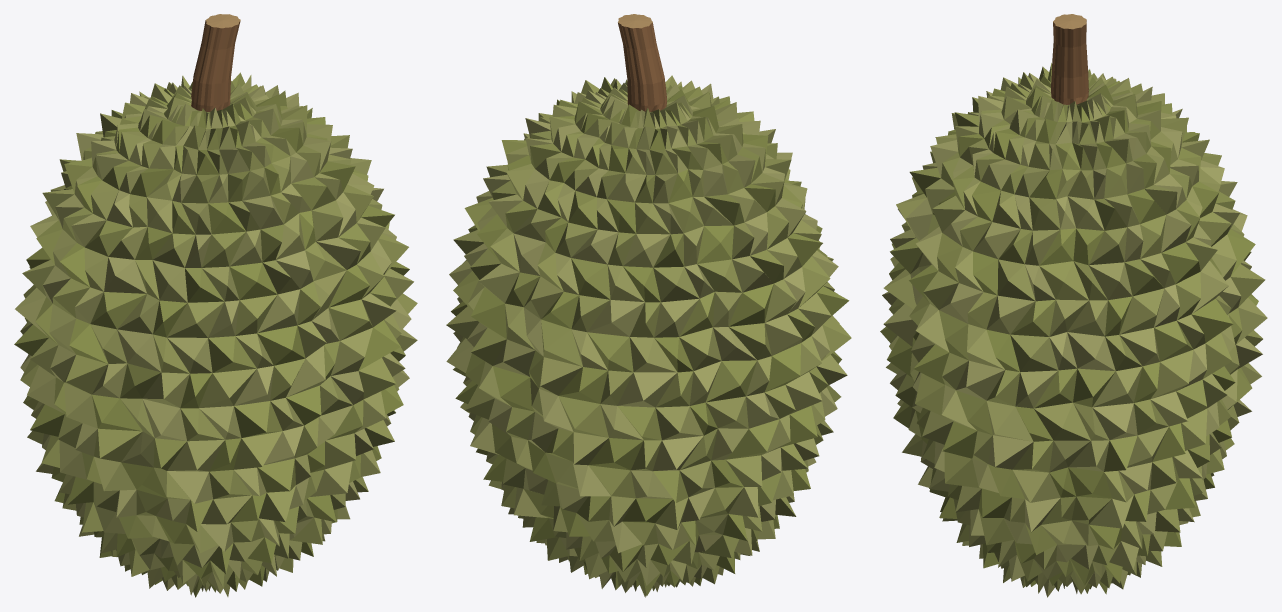
The picture shows the model from 3 angles, left to right: view 1: azimuth 30°, elevation 25°; view 2: azimuth 150°, elevation 25°; view 3: azimuth 270°, elevation 25°; orthographic projection.
Visible parts, largest first — view 1: NEW303_Durian_LOD1; view 2: NEW303_Durian_LOD1; view 3: NEW303_Durian_LOD1.
Boxes of the visible parts, x1,y1,x2,y2 form: NEW303_Durian_LOD1: (14,14,417,597); NEW303_Durian_LOD1: (446,14,851,597); NEW303_Durian_LOD1: (880,14,1267,597).
Size of the model in its own units: 0.2278 by 0.3467 by 0.2157.
